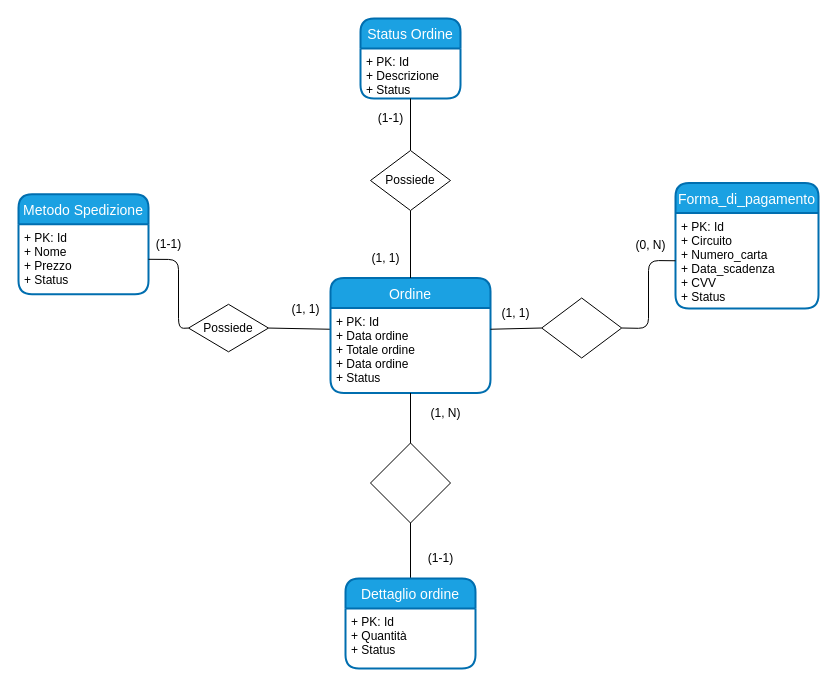
Image size: 836x686. Some labels were removed from this diagram. The shapes that lost their labels are listed below. From the top down, each one's centre as x and y in pixels, then its label:
pixel 581 327: Effettuato
pixel 410 482: contiene
